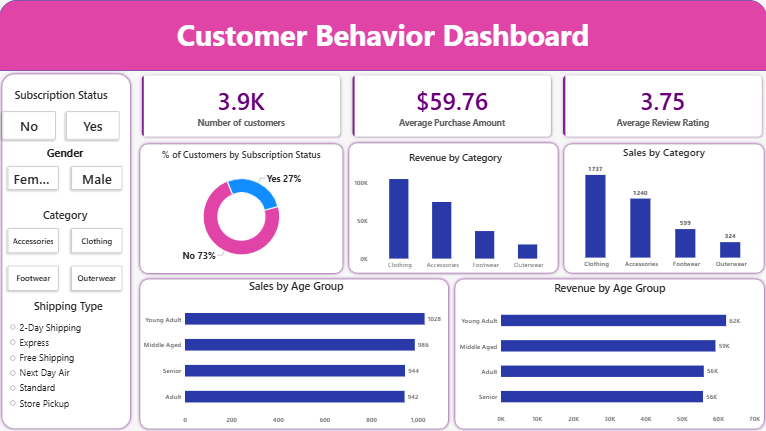

Layout of this report page (visuals, bound fields, positions):
{"tool":"powerbi","page":{"name":"Page 1","canvas":[1920,1080],"ordinal":0},"visuals":[{"type":"cardVisual","title":"Average ","fields":{"Data":["customer_behaviour customers.Number of customers","customer_behaviour customers.average purchase amount","customer_behaviour customers.average review rating"]},"box":[345,177.5,1575,175],"z":0},{"type":"shape","box":[0,0,1920,177.5],"z":1000},{"type":"textbox","box":[1672,0,248,178],"z":2000},{"type":"textbox","box":[0,37.5,1920,140],"z":3000},{"type":"shape","box":[346,352,522,338],"z":3001},{"type":"donutChart","title":"% of Customers by Subscription Status","fields":{"Category":["customer_behaviour customers.subscription_status"],"Y":["CountNonNull(customer_behaviour customers.customer_id)"]},"box":[346,358,522,324],"z":3002},{"type":"shape","box":[867.5,350,537.5,340],"z":3003},{"type":"shape","box":[1405,352.5,515,337.5],"z":3004},{"type":"clusteredColumnChart","title":"Revenue by Category","fields":{"Category":["customer_behaviour customers.category"],"Y":["Sum(customer_behaviour customers.purchase_amount)"]},"box":[872,362,537.5,330],"z":3005},{"type":"clusteredColumnChart","title":"Sales by Category","fields":{"Category":["customer_behaviour customers.category"],"Y":["CountNonNull(customer_behaviour customers.customer_id)"]},"box":[1405,350,515,340],"z":3006},{"type":"shape","box":[0,178,336,902],"z":3008},{"type":"advancedSlicerVisual","title":"Subscription Status","fields":{"Values":["customer_behaviour customers.subscription_status"]},"box":[10,212,310,140],"z":3010},{"type":"advancedSlicerVisual","title":"Gender","fields":{"Values":["customer_behaviour customers.gender"]},"box":[10,362,310,124],"z":3011},{"type":"advancedSlicerVisual","title":"Category","fields":{"Values":["customer_behaviour customers.category"]},"box":[10,518,310,222],"z":3012},{"type":"listSlicer","title":"Shipping Type","fields":{"Values":["customer_behaviour customers.shipping_type"]},"box":[10,732,326,348],"z":3013},{"type":"shape","box":[1132,690,788,390],"z":3015},{"type":"shape","box":[346,690,786,390],"z":3016},{"type":"clusteredBarChart","title":"Sales by Age Group","fields":{"Category":["customer_behaviour customers.age_group"],"Y":["CountNonNull(customer_behaviour customers.purchase_amount)"]},"box":[346,682,796,398],"z":3017},{"type":"clusteredBarChart","title":"Revenue by Age Group","fields":{"Category":["customer_behaviour customers.age_group"],"Y":["Sum(customer_behaviour customers.purchase_amount)"]},"box":[1136,688,784,392],"z":3018}]}

Visuals, with their boxes in screenshot pixels (x1, y1, x2, y2), scaled from the page's 1920x1080 canvas onto the 766x431 screenshot:
"Average " cardVisual: bbox(138, 71, 765, 141)
shape: bbox(0, 0, 765, 71)
textbox: bbox(667, 0, 765, 71)
textbox: bbox(0, 15, 765, 71)
shape: bbox(138, 140, 346, 275)
"% of Customers by Subscription Status" donutChart: bbox(138, 143, 346, 272)
shape: bbox(346, 140, 561, 275)
shape: bbox(561, 141, 765, 275)
"Revenue by Category" clusteredColumnChart: bbox(348, 144, 562, 276)
"Sales by Category" clusteredColumnChart: bbox(561, 140, 765, 275)
shape: bbox(0, 71, 134, 430)
"Subscription Status" advancedSlicerVisual: bbox(4, 85, 128, 140)
"Gender" advancedSlicerVisual: bbox(4, 144, 128, 194)
"Category" advancedSlicerVisual: bbox(4, 207, 128, 295)
"Shipping Type" listSlicer: bbox(4, 292, 134, 430)
shape: bbox(452, 275, 765, 430)
shape: bbox(138, 275, 452, 430)
"Sales by Age Group" clusteredBarChart: bbox(138, 272, 456, 430)
"Revenue by Age Group" clusteredBarChart: bbox(453, 275, 765, 430)
